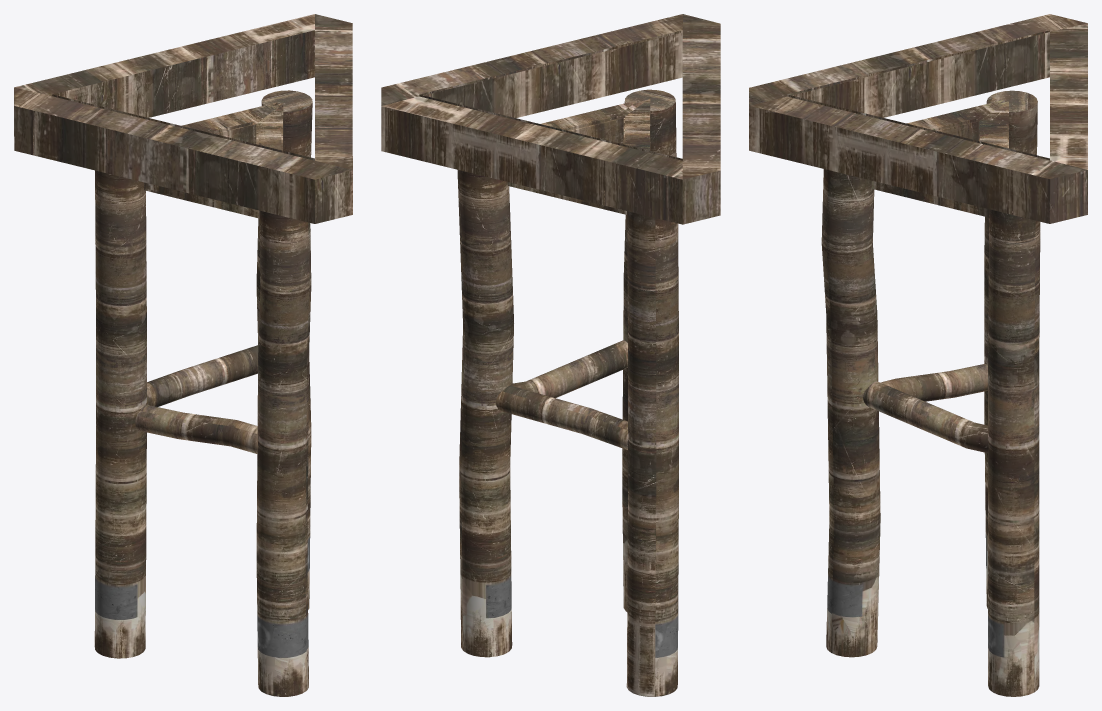
3 views of the same model, side by side, from view 1: azimuth 30°, elevation 25°; view 2: azimuth 150°, elevation 25°; view 3: azimuth 270°, elevation 25° (orthographic).
Parts seen in each view (by area): view 1: SM_BB_T1_Fence_Hedge_End_LOD0; view 2: SM_BB_T1_Fence_Hedge_End_LOD0; view 3: SM_BB_T1_Fence_Hedge_End_LOD0.
Boxes of the visible parts, x1,y1,x2,y2 form: SM_BB_T1_Fence_Hedge_End_LOD0: [14, 14, 352, 696]; SM_BB_T1_Fence_Hedge_End_LOD0: [381, 14, 720, 696]; SM_BB_T1_Fence_Hedge_End_LOD0: [749, 14, 1087, 696].
Size of the model in its own units: 1.93 by 3.01 by 1.67.
